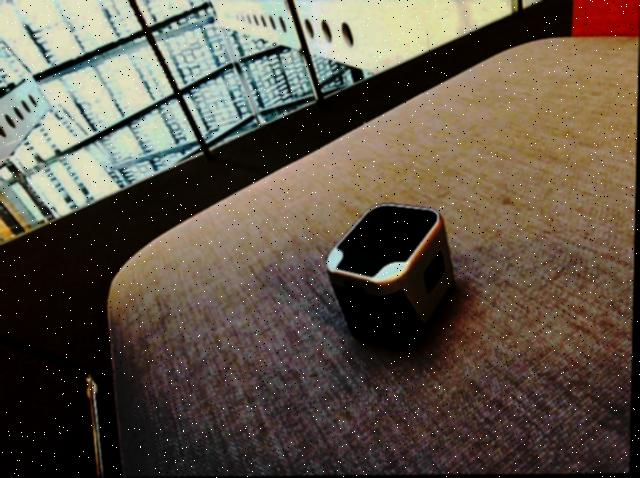adapter: (325, 203, 457, 351)
